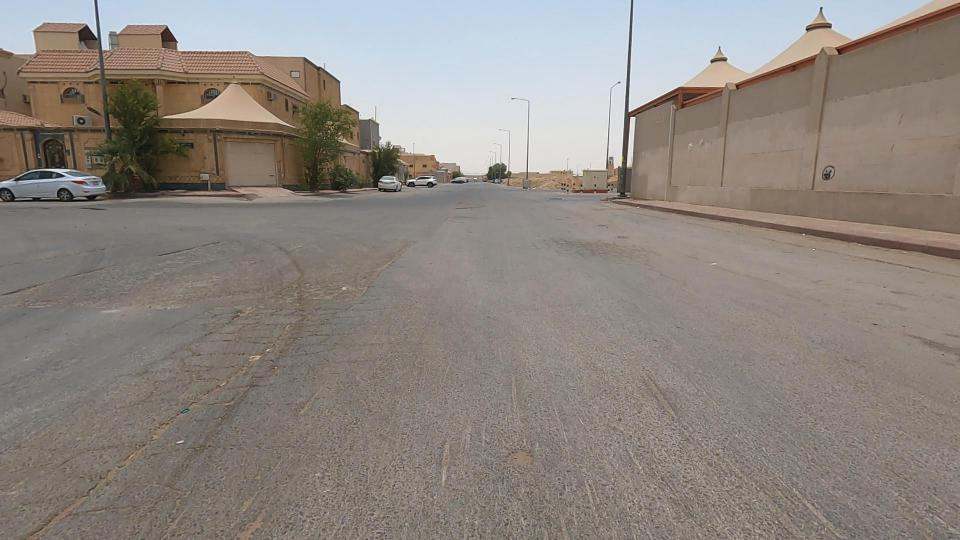POTHOLES: (50, 249, 349, 502), (129, 213, 423, 395)
